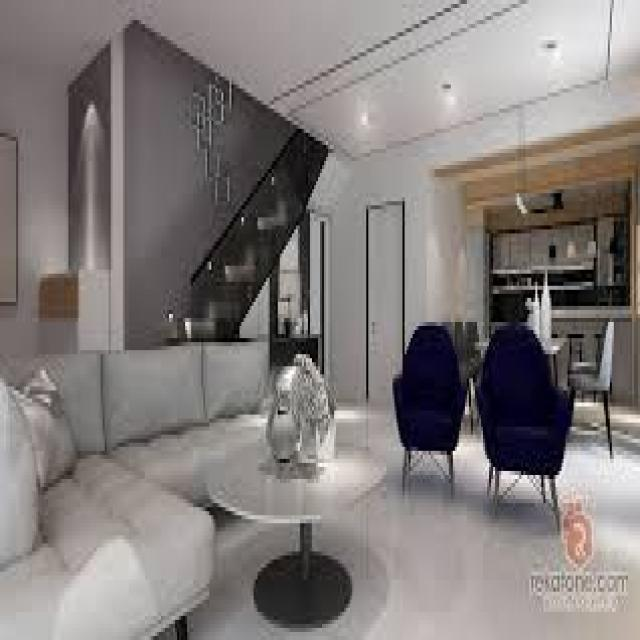Chair: (472, 309, 574, 532), (392, 296, 463, 515), (566, 301, 620, 447)
Sofa: (1, 339, 283, 639)
Table: (210, 418, 388, 622)
